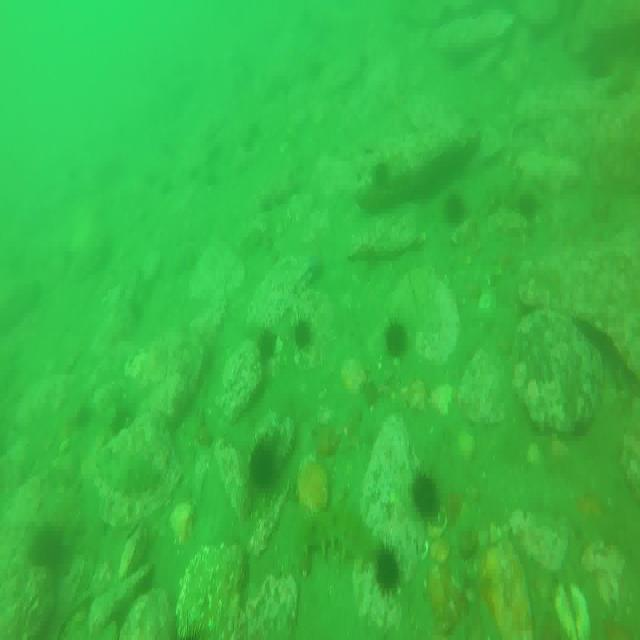echinus: (250, 438, 282, 492), (413, 472, 442, 524), (377, 544, 401, 599), (441, 191, 470, 234), (516, 185, 542, 228), (385, 316, 409, 362), (290, 314, 312, 354), (256, 328, 282, 358), (370, 161, 391, 193)
holothurian: (302, 510, 378, 558)
scallop: (428, 382, 456, 419)
